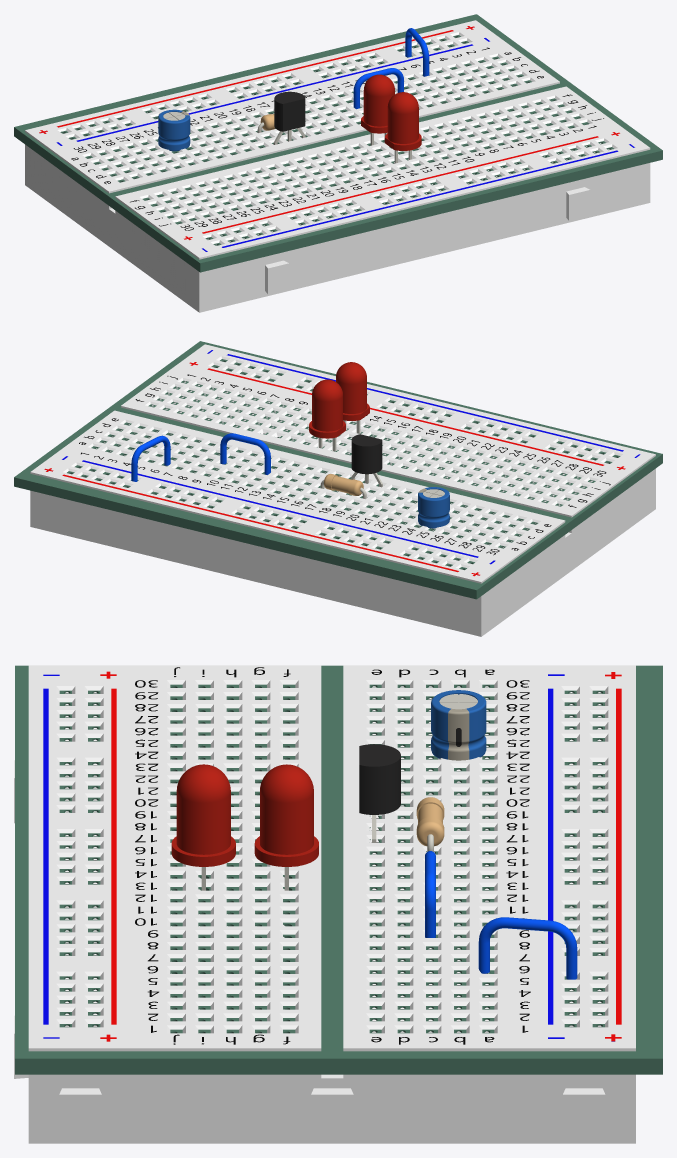
3 views of the same model, one above another, from view 1: azimuth 30°, elevation 25°; view 2: azimuth 150°, elevation 25°; view 3: azimuth 270°, elevation 25° (orthographic). The views are drawn at different scales.
Visible parts, largest first — view 1: HalfBreadboard001, breadboard_PCB, HalfBreadboard, LED_D5.0mm004, LED_D5.0mm002, TO-92_Inline_Wide, CP_Radial_D50mm_P250mm, Jumper-Wire_8mm_Blue, Jumper-Wire_8mm_Blue002; view 2: HalfBreadboard001, breadboard_PCB, HalfBreadboard, LED_D5.0mm002, LED_D5.0mm004, TO-92_Inline_Wide, CP_Radial_D50mm_P250mm, R_Axial_DIN0207_L63mm_D25mm_P762mm_Horizontal, Jumper-Wire_8mm_Blue, Jumper-Wire_8mm_Blue002; view 3: HalfBreadboard001, breadboard_PCB, HalfBreadboard, LED_D5.0mm004, LED_D5.0mm002, CP_Radial_D50mm_P250mm, TO-92_Inline_Wide, Jumper-Wire_8mm_Blue002, R_Axial_DIN0207_L63mm_D25mm_P762mm_Horizontal, Jumper-Wire_8mm_Blue.
Part boxes in pixels (<box>): HalfBreadboard001: <box>25,20,650,306</box>; breadboard_PCB: <box>14,14,662,272</box>; HalfBreadboard: <box>25,179,650,312</box>; LED_D5.0mm004: <box>384,92,421,163</box>; LED_D5.0mm002: <box>361,74,394,145</box>; TO-92_Inline_Wide: <box>273,91,305,144</box>; CP_Radial_D50mm_P250mm: <box>158,109,190,151</box>; Jumper-Wire_8mm_Blue: <box>353,68,403,109</box>; Jumper-Wire_8mm_Blue002: <box>405,28,429,76</box>; HalfBreadboard001: <box>30,344,655,630</box>; breadboard_PCB: <box>14,341,662,599</box>; HalfBreadboard: <box>30,503,655,636</box>; LED_D5.0mm002: <box>309,379,345,451</box>; LED_D5.0mm004: <box>336,362,369,433</box>; TO-92_Inline_Wide: <box>351,434,382,487</box>; CP_Radial_D50mm_P250mm: <box>418,487,449,528</box>; R_Axial_DIN0207_L63mm_D25mm_P762mm_Horizontal: <box>320,474,366,498</box>; Jumper-Wire_8mm_Blue: <box>220,433,270,475</box>; Jumper-Wire_8mm_Blue002: <box>131,435,170,481</box>; HalfBreadboard001: <box>14,665,635,1139</box>; breadboard_PCB: <box>15,665,662,1074</box>; HalfBreadboard: <box>28,1133,635,1143</box>; LED_D5.0mm004: <box>171,764,235,890</box>; LED_D5.0mm002: <box>254,764,318,890</box>; CP_Radial_D50mm_P250mm: <box>431,690,486,760</box>; TO-92_Inline_Wide: <box>359,744,400,842</box>; Jumper-Wire_8mm_Blue002: <box>478,917,577,979</box>; R_Axial_DIN0207_L63mm_D25mm_P762mm_Horizontal: <box>416,797,444,851</box>; Jumper-Wire_8mm_Blue: <box>425,851,435,937</box>.
Size of the model in its own units: 8.38 by 2.09 by 5.85.
